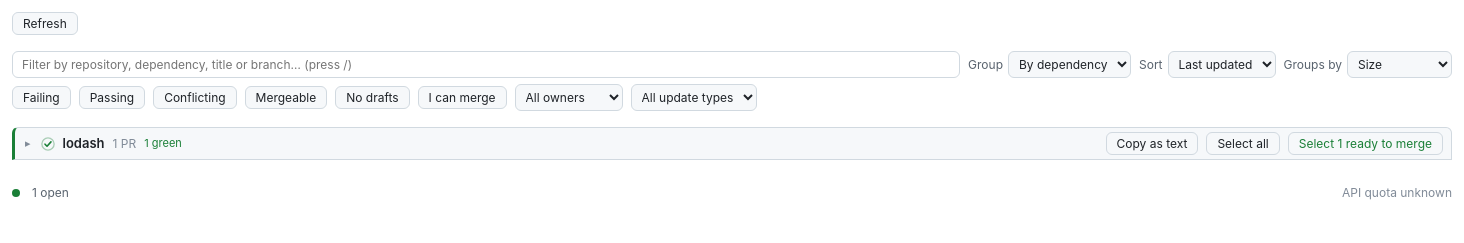
Dashboard › the view › expands a collapsed group again
Click the button "▸": coordinates (28, 144) x1=23 y1=138 x2=32 y2=149
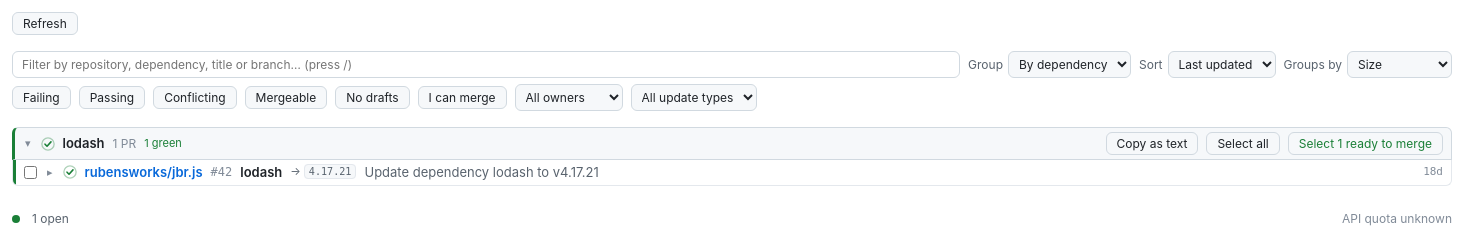
Now the number of list items is 1, box x1=13 y1=160 x2=1451 y2=185
